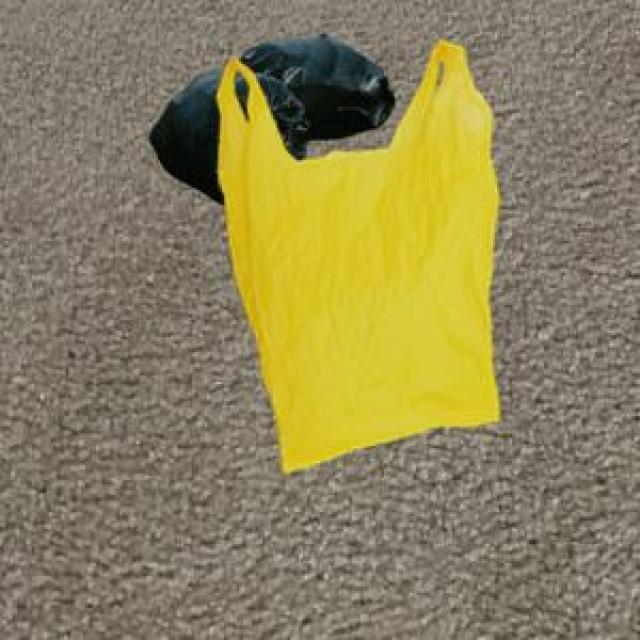miscellaneous trash: (145, 30, 390, 201)
